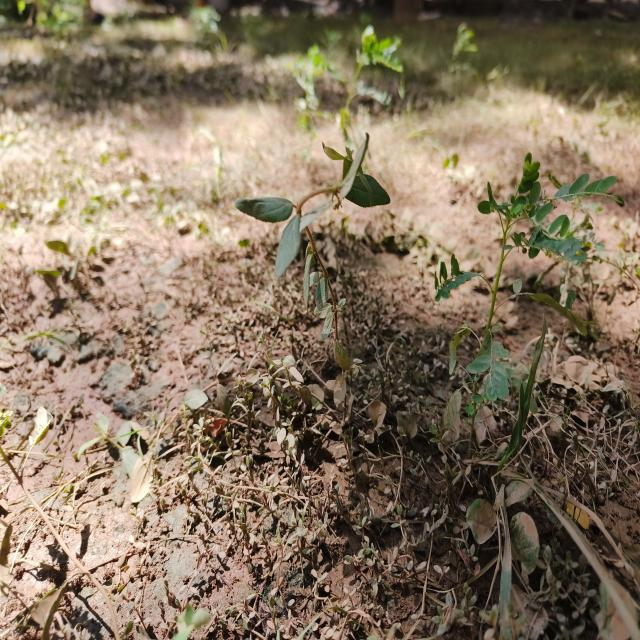weed: (430, 144, 613, 406), (234, 108, 391, 349), (291, 280, 319, 359), (269, 217, 291, 280)
